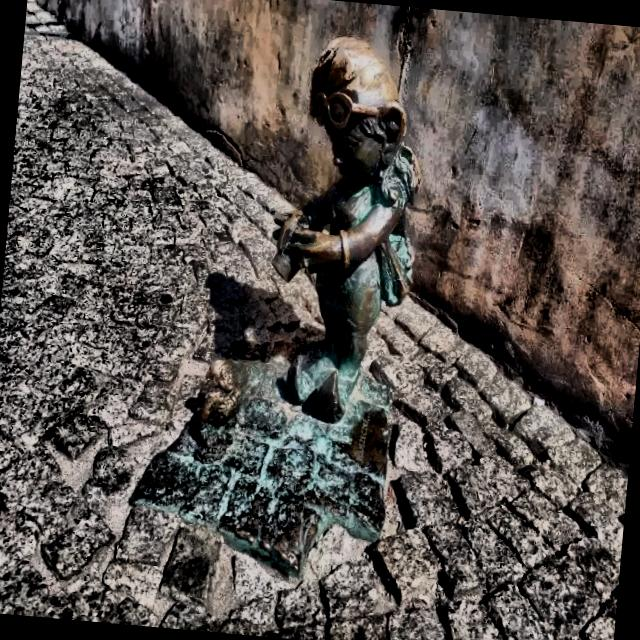Troszka i Adoratorek: (163, 37, 421, 572)
